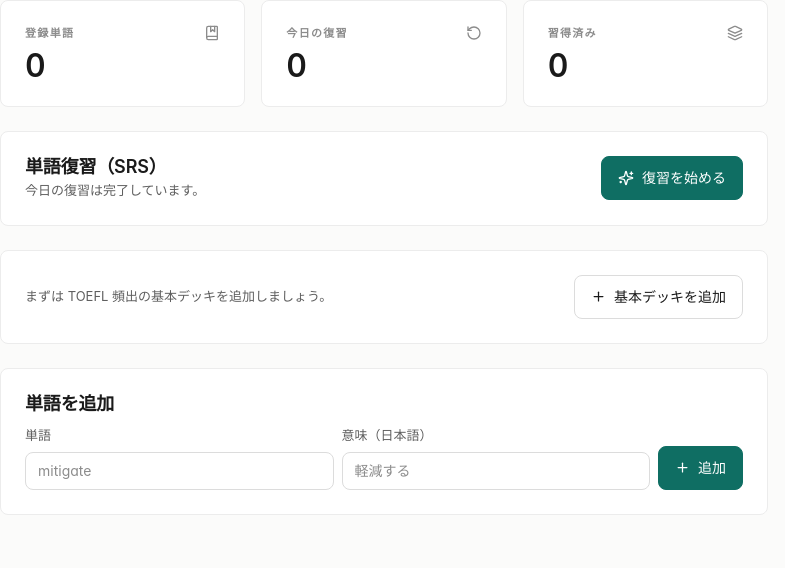
Scenario: Vocabulary screen › adds and removes a custom word
Step 1. Type "serendipity" into the field labelled "単語" → (179, 471), box x1=25 y1=452 x2=334 y2=490
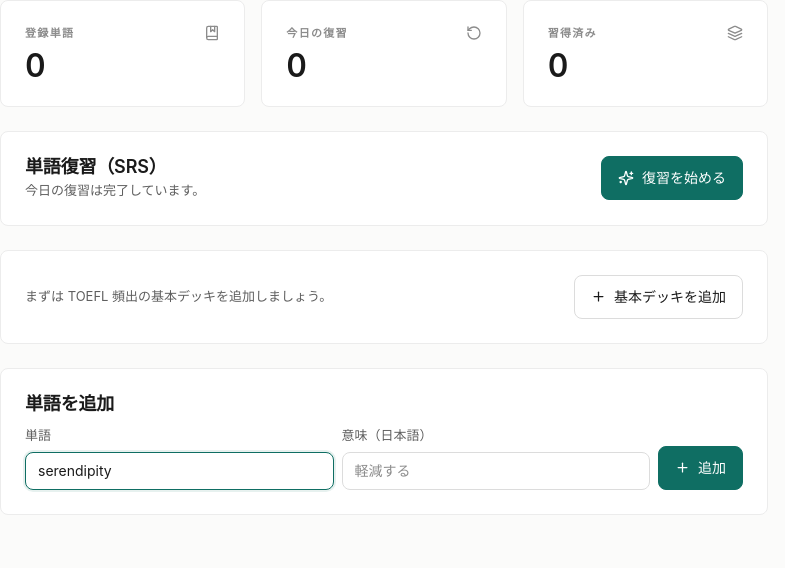
Step 2. Type "思いがけない幸運" into the field labelled "意味（日本語）" → (496, 471), box x1=342 y1=452 x2=650 y2=490
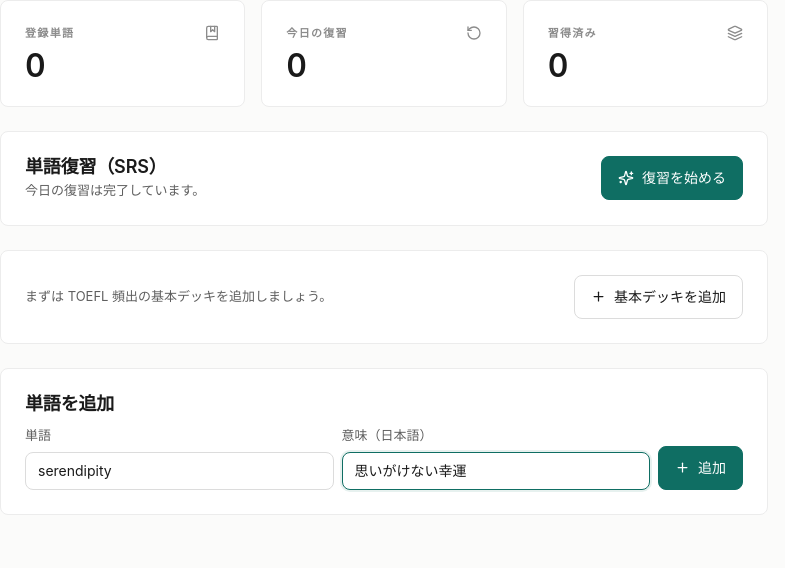
Step 3. Click the button "追加" → (700, 468), box x1=658 y1=446 x2=743 y2=490
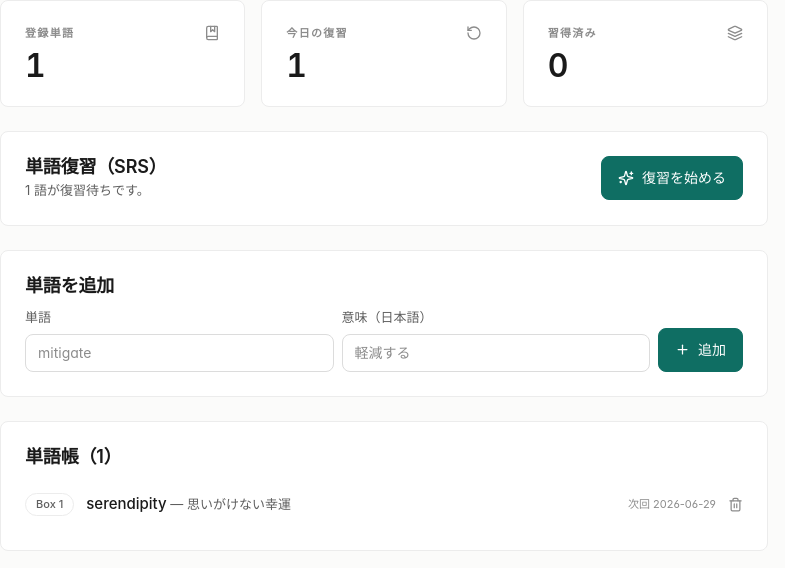
Check: the text "serendipity" is shown, box x1=86 y1=494 x2=167 y2=513
Step 4. Click the button named "serendipity を削除" → (736, 504), box x1=728 y1=497 x2=743 y2=512
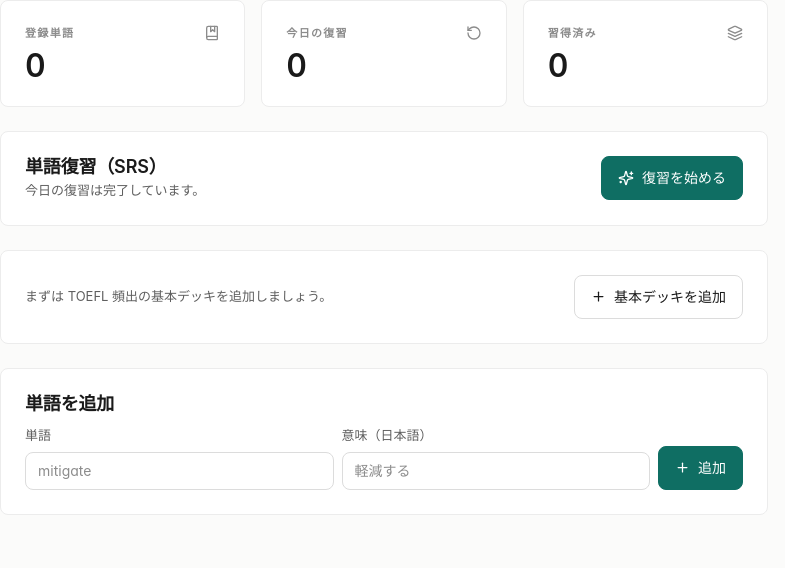
Check: the text "serendipity" is gone
